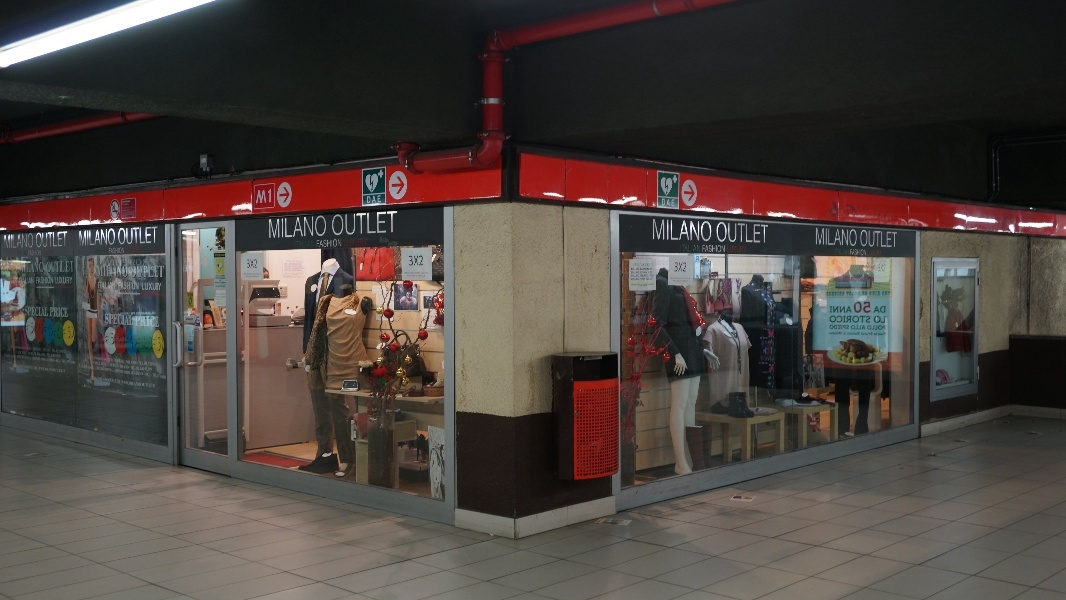text: (545, 331, 560, 370), (561, 331, 576, 370), (577, 331, 592, 370), (593, 331, 608, 370), (481, 159, 496, 193), (497, 159, 512, 193), (513, 159, 528, 193), (529, 159, 544, 193), (545, 159, 560, 193), (561, 159, 576, 193), (577, 159, 592, 193), (593, 159, 608, 193), (609, 159, 624, 193), (625, 159, 640, 193), (641, 159, 656, 193), (657, 159, 672, 193), (465, 191, 480, 224), (481, 191, 496, 224), (497, 191, 512, 224), (513, 191, 528, 224), (529, 191, 544, 224), (545, 191, 560, 224), (561, 191, 576, 224), (577, 191, 592, 224), (337, 180, 352, 211), (353, 180, 368, 211), (369, 180, 384, 211), (385, 180, 400, 211), (401, 180, 416, 211), (417, 180, 432, 211), (337, 142, 352, 171), (353, 142, 368, 171), (369, 142, 384, 171), (385, 142, 400, 171), (401, 142, 416, 171), (417, 142, 432, 171), (433, 142, 448, 171), (534, 331, 544, 370), (609, 331, 619, 370), (545, 417, 560, 442), (561, 417, 576, 442), (577, 417, 592, 442), (593, 417, 608, 442), (609, 417, 624, 442), (625, 417, 640, 442), (641, 417, 656, 442), (657, 417, 672, 442), (545, 253, 561, 275), (449, 253, 464, 275), (465, 253, 480, 275), (481, 253, 496, 275), (497, 253, 512, 275), (513, 253, 528, 275), (529, 253, 544, 275), (673, 522, 689, 542), (449, 142, 460, 171), (337, 245, 352, 266), (353, 245, 368, 266), (369, 245, 384, 266), (385, 245, 400, 266), (401, 245, 416, 266), (321, 522, 336, 542), (337, 522, 352, 542), (353, 522, 368, 542), (369, 522, 384, 542), (385, 522, 400, 542), (401, 522, 416, 542), (417, 522, 432, 542), (433, 522, 448, 542), (449, 522, 464, 542), (465, 522, 480, 542), (481, 522, 496, 542), (497, 522, 512, 542), (513, 522, 528, 542), (529, 522, 544, 542), (545, 522, 560, 542), (561, 522, 576, 542), (577, 522, 592, 542), (593, 522, 608, 542), (609, 522, 624, 542), (625, 522, 640, 542), (641, 522, 656, 542), (657, 522, 672, 542), (385, 425, 400, 442), (401, 425, 416, 442), (417, 425, 432, 442), (433, 425, 448, 442), (449, 425, 464, 442), (465, 425, 480, 442), (337, 484, 352, 500), (353, 484, 368, 500), (369, 484, 384, 500), (385, 484, 400, 500), (401, 484, 416, 500), (417, 484, 432, 500), (433, 484, 448, 500), (449, 484, 464, 500), (465, 484, 480, 500), (473, 159, 480, 193), (673, 159, 680, 193), (457, 191, 464, 224), (545, 299, 560, 313), (561, 299, 576, 313), (609, 302, 624, 316), (625, 302, 640, 316), (337, 447, 352, 461), (353, 447, 368, 461), (529, 485, 545, 498), (369, 447, 383, 461), (433, 448, 448, 461), (449, 448, 464, 461), (465, 448, 480, 461), (481, 448, 496, 461), (497, 448, 512, 461), (513, 448, 528, 461), (513, 485, 528, 498), (593, 484, 608, 497), (609, 484, 624, 497), (625, 484, 640, 497), (641, 484, 656, 497), (657, 484, 672, 497), (577, 299, 590, 313), (499, 485, 512, 498), (433, 180, 438, 211), (597, 302, 608, 316), (545, 378, 560, 388), (561, 378, 576, 388), (577, 378, 592, 388), (593, 378, 608, 388), (417, 245, 424, 266), (641, 302, 651, 316), (417, 393, 432, 402), (433, 393, 448, 402), (449, 393, 464, 402), (465, 393, 480, 402), (513, 395, 528, 404), (529, 395, 544, 404), (545, 395, 560, 404), (561, 395, 576, 404), (577, 395, 592, 404), (593, 395, 608, 404), (442, 253, 448, 275), (584, 484, 592, 497), (315, 522, 320, 542), (561, 485, 569, 497), (513, 375, 525, 383), (333, 180, 336, 211), (401, 448, 408, 461), (332, 245, 336, 266), (481, 484, 486, 500), (426, 448, 432, 461), (673, 417, 676, 442), (481, 393, 489, 402), (497, 376, 507, 383), (593, 191, 595, 224), (673, 484, 678, 497), (332, 484, 336, 500), (409, 393, 416, 402), (334, 142, 336, 171), (332, 447, 336, 461), (396, 448, 400, 461), (381, 425, 384, 442), (481, 425, 484, 442), (542, 417, 544, 442), (609, 395, 614, 404), (609, 378, 613, 388), (557, 485, 560, 497), (541, 378, 544, 388), (510, 375, 512, 383)
